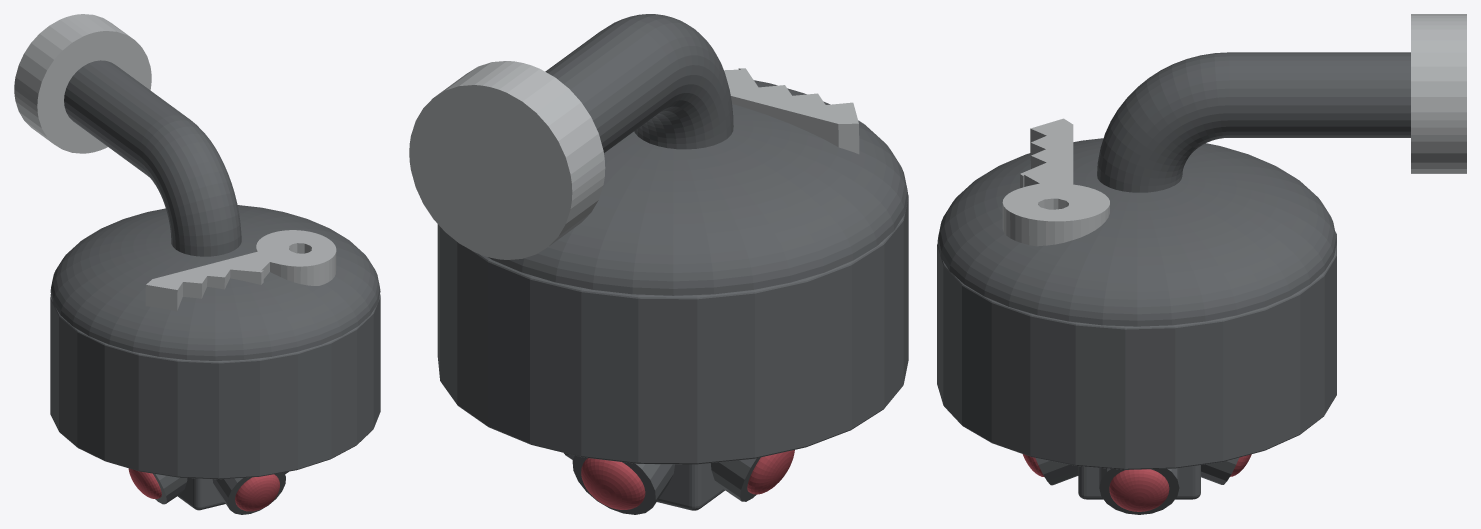
Rendered from multimode-camera-black-base.glb.
The picture shows the model from 3 angles, left to right: view 1: azimuth 30°, elevation 25°; view 2: azimuth 150°, elevation 25°; view 3: azimuth 270°, elevation 25°; orthographic projection. The views are drawn at different scales.
Visible parts, largest first — view 1: Mesh_Mesh_head_geo.001_lambert2SG.001; view 2: Mesh_Mesh_head_geo.001_lambert2SG.001; view 3: Mesh_Mesh_head_geo.001_lambert2SG.001.
Part boxes in pixels (left/top/right/bottom): Mesh_Mesh_head_geo.001_lambert2SG.001: left=14, top=14, right=380, bottom=514; Mesh_Mesh_head_geo.001_lambert2SG.001: left=409, top=14, right=908, bottom=514; Mesh_Mesh_head_geo.001_lambert2SG.001: left=937, top=14, right=1466, bottom=514.
Size of the model in its own units: 127 by 159 by 168.
